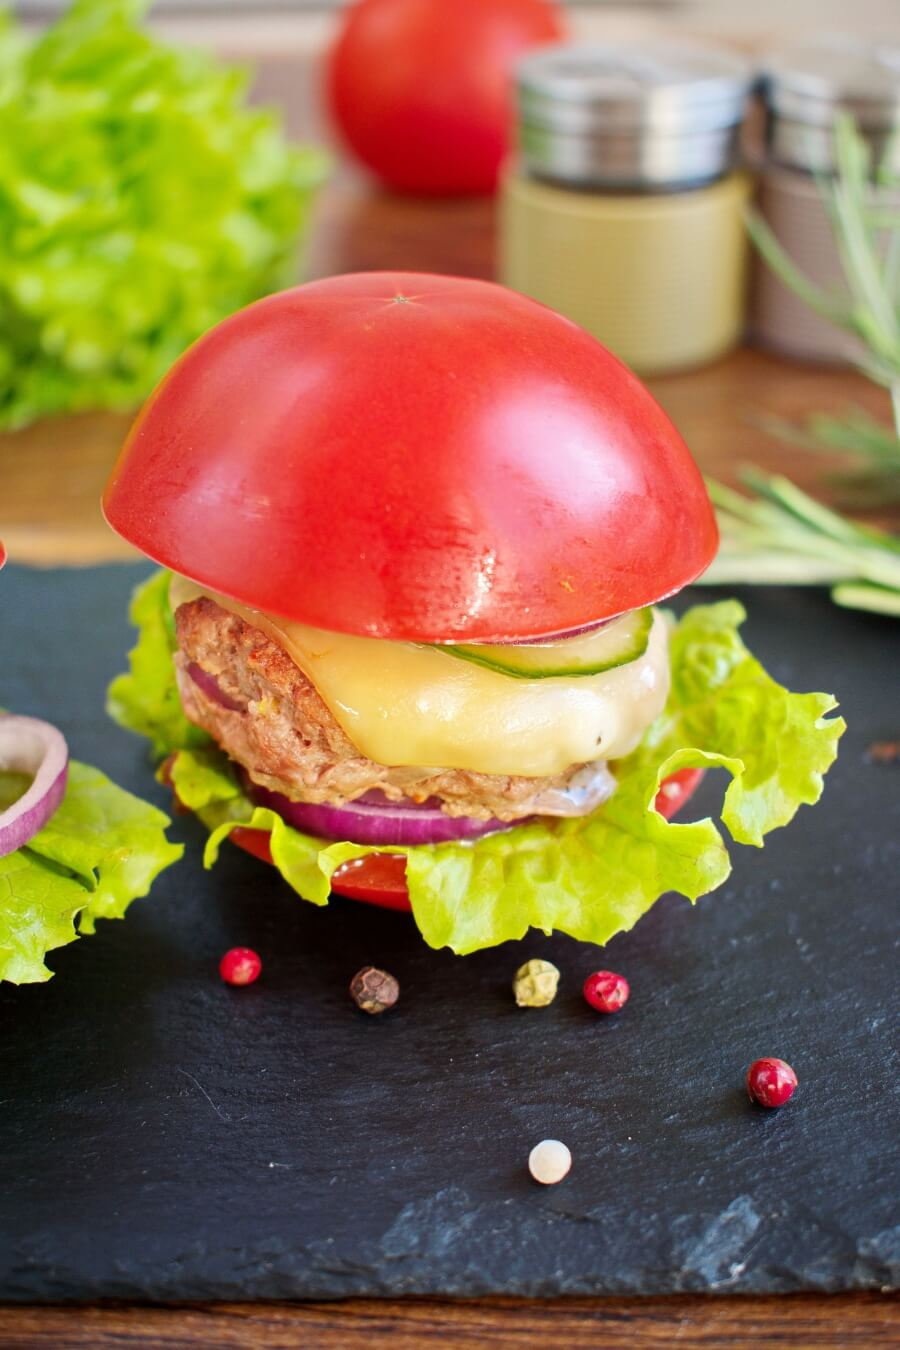hamburger_buns: (103, 264, 727, 669)
